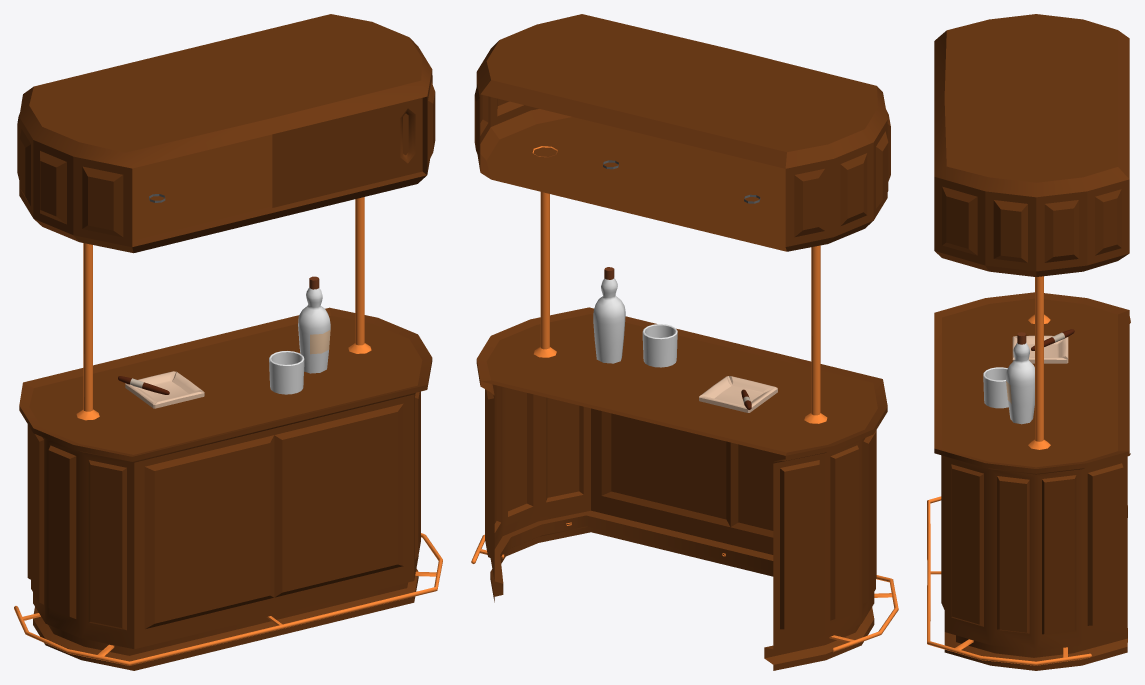
File: m_roomOfPoleDance_bar.fbx
3 renders of one model, left to right at view 1: azimuth 30°, elevation 25°; view 2: azimuth 150°, elevation 25°; view 3: azimuth 270°, elevation 25°, orthographic. The views are drawn at different scales.
Visible parts, largest first — view 1: m_roomOfPoleDance_bar; view 2: m_roomOfPoleDance_bar; view 3: m_roomOfPoleDance_bar.
Boxes of the visible parts, <box> form: m_roomOfPoleDance_bar: <box>14,14,442,670</box>; m_roomOfPoleDance_bar: <box>471,14,898,670</box>; m_roomOfPoleDance_bar: <box>927,14,1130,670</box>.
Size of the model in its own units: 164 by 204 by 76.94.
